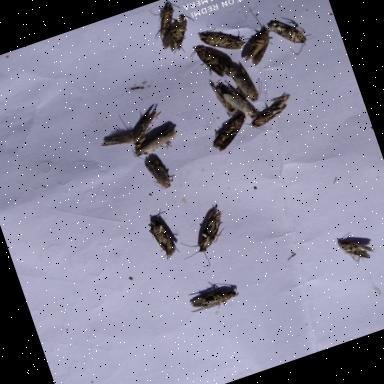pbw: (260, 3, 327, 66), (177, 270, 253, 324), (232, 88, 300, 140), (195, 12, 258, 63), (231, 19, 286, 74), (119, 103, 174, 152), (143, 0, 192, 55), (97, 116, 158, 160), (216, 80, 269, 130), (140, 205, 184, 265), (158, 3, 206, 58), (124, 123, 186, 165), (332, 223, 384, 272), (186, 36, 236, 86), (204, 108, 258, 154), (204, 73, 246, 123), (227, 59, 269, 109), (140, 147, 180, 195)
